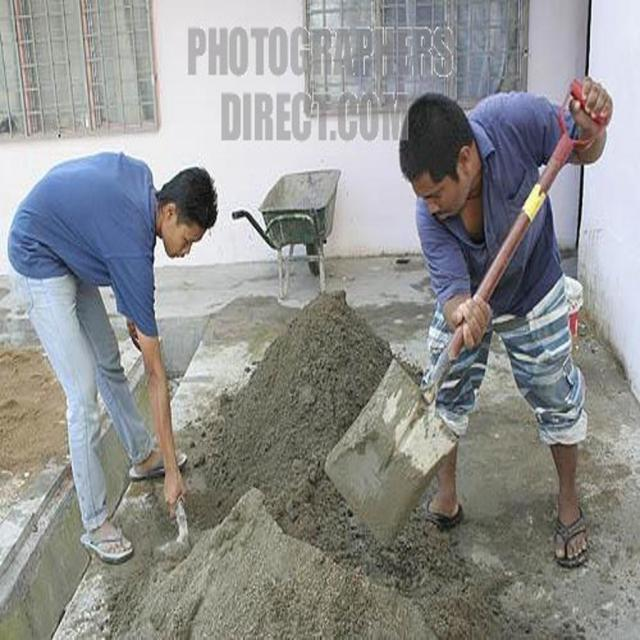nomask: (408, 158, 468, 225), (161, 203, 210, 257)
